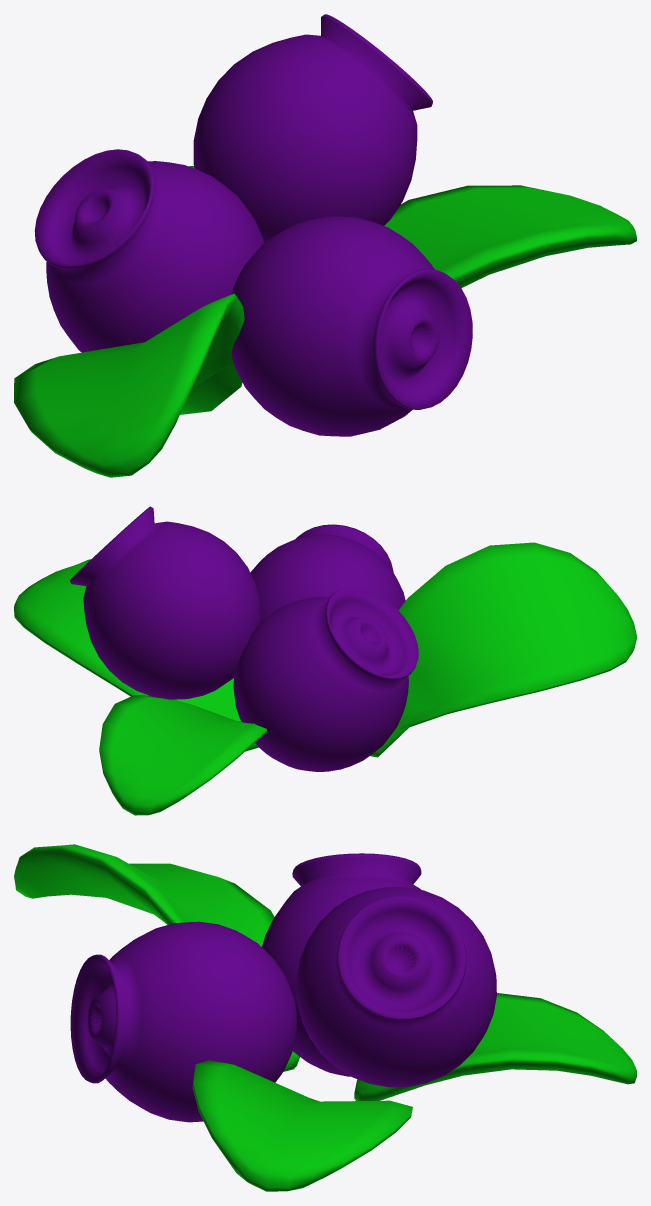
Rendered from blueberry.glb.
3 views of the same model, one above another, from view 1: azimuth 30°, elevation 25°; view 2: azimuth 150°, elevation 25°; view 3: azimuth 270°, elevation 25° (orthographic). The views are drawn at different scales.
Visible parts, largest first — view 1: Sphere.002; view 2: Sphere.002; view 3: Sphere.002.
Part boxes in pixels (x1,y1,x2,y2): Sphere.002: [14, 14, 636, 477]; Sphere.002: [14, 506, 636, 815]; Sphere.002: [14, 844, 636, 1191].
Bounding box in the file's own units: 1.94 × 0.8379 × 1.7.
